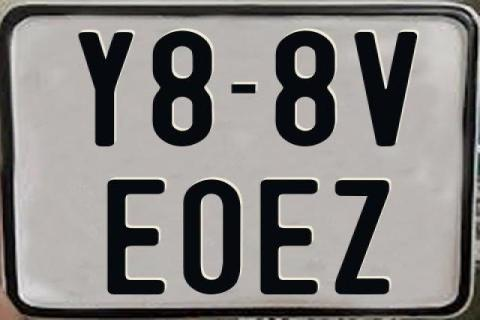0: (151, 29, 216, 150), (275, 29, 337, 149), (183, 177, 243, 296)
E: (260, 177, 321, 297), (104, 180, 162, 298)
V: (354, 31, 422, 149)
Y: (75, 30, 130, 148)
Z: (332, 178, 391, 296)
